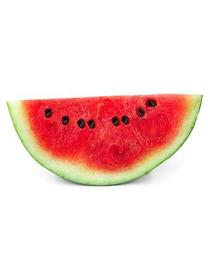watermelon: (4, 96, 202, 188)
